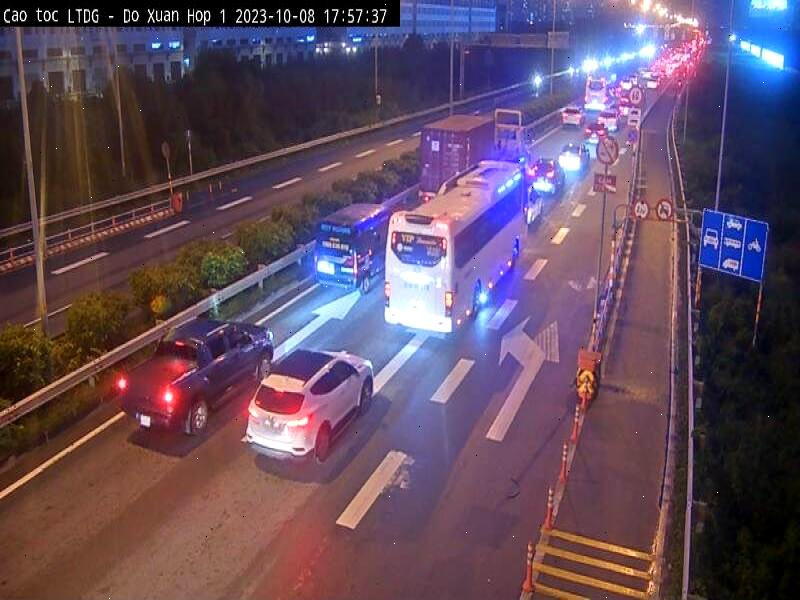bus: (376, 157, 541, 335)
car: (226, 338, 386, 473), (96, 316, 274, 433), (310, 191, 398, 330)
